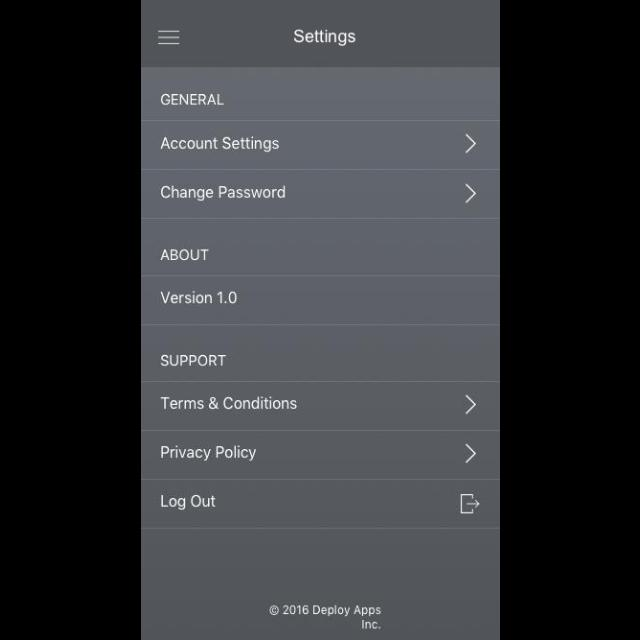icon: (460, 494, 480, 514), (157, 30, 180, 46), (464, 182, 478, 204), (464, 132, 476, 156), (464, 442, 476, 464), (464, 393, 476, 415)
text: (268, 603, 382, 629), (160, 185, 286, 202), (161, 136, 279, 154), (160, 396, 298, 410), (161, 444, 257, 462), (294, 28, 356, 48), (160, 290, 238, 304), (160, 494, 216, 510), (160, 355, 227, 367), (160, 94, 226, 106), (160, 248, 210, 262)
toolbar: (141, 1, 499, 68)
